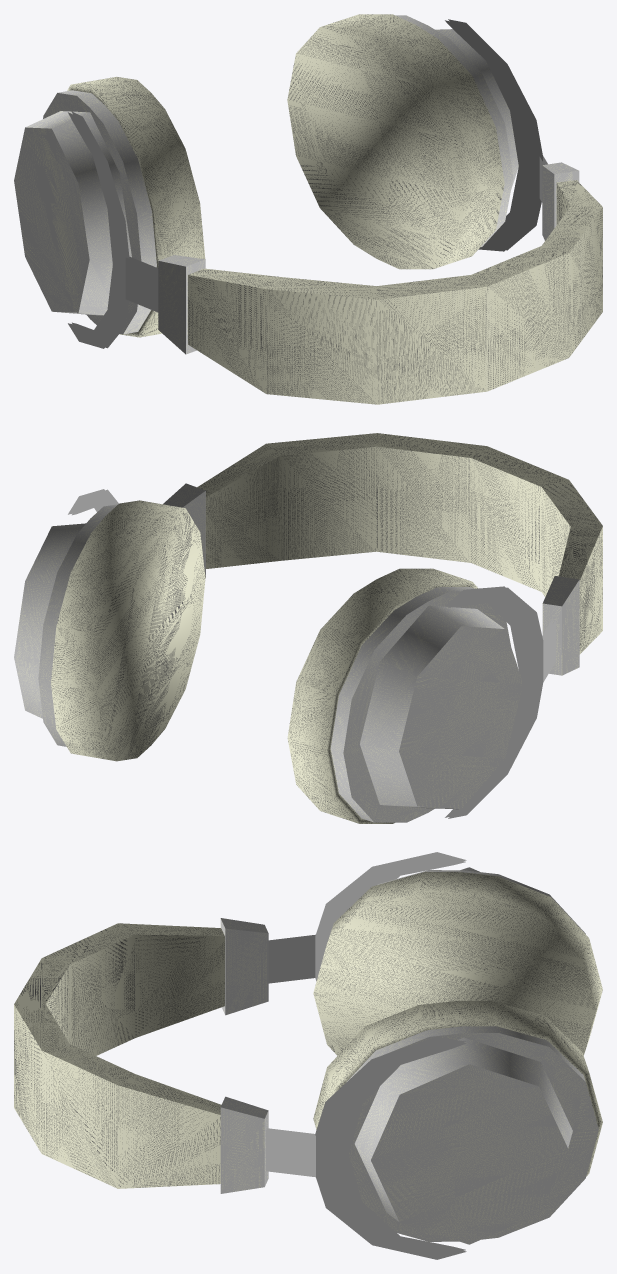
The model's file is model_align.obj.
3 renders of one model, top to bottom at view 1: azimuth 30°, elevation 25°; view 2: azimuth 150°, elevation 25°; view 3: azimuth 270°, elevation 25°, orthographic.
Visible parts, largest first — view 1: mesh9_mesh9-geometry, mesh5_mesh5-geometry, mesh1_mesh1-geometry, mesh8_mesh8-geometry, mesh3_mesh3-geometry, mesh2_mesh2-geometry, mesh6_mesh6-geometry, mesh4_mesh4-geometry, mesh7_mesh7-geometry; view 2: mesh9_mesh9-geometry, mesh1_mesh1-geometry, mesh5_mesh5-geometry, mesh3_mesh3-geometry, mesh2_mesh2-geometry, mesh6_mesh6-geometry, mesh8_mesh8-geometry, mesh4_mesh4-geometry; view 3: mesh5_mesh5-geometry, mesh9_mesh9-geometry, mesh1_mesh1-geometry, mesh7_mesh7-geometry, mesh4_mesh4-geometry, mesh6_mesh6-geometry, mesh2_mesh2-geometry, mesh8_mesh8-geometry.
Part boxes in pixels (x1,y1,x2,y2): mesh9_mesh9-geometry: [188, 180, 602, 404]; mesh5_mesh5-geometry: [287, 14, 518, 269]; mesh1_mesh1-geometry: [14, 76, 205, 337]; mesh8_mesh8-geometry: [445, 20, 544, 251]; mesh3_mesh3-geometry: [68, 112, 158, 348]; mesh2_mesh2-geometry: [158, 255, 205, 354]; mesh6_mesh6-geometry: [542, 162, 579, 240]; mesh4_mesh4-geometry: [71, 111, 158, 348]; mesh7_mesh7-geometry: [448, 19, 547, 250]; mesh9_mesh9-geometry: [197, 433, 602, 654]; mesh1_mesh1-geometry: [287, 568, 523, 823]; mesh5_mesh5-geometry: [14, 500, 205, 761]; mesh3_mesh3-geometry: [448, 587, 555, 818]; mesh2_mesh2-geometry: [542, 576, 579, 675]; mesh6_mesh6-geometry: [163, 483, 205, 578]; mesh8_mesh8-geometry: [72, 489, 118, 515]; mesh4_mesh4-geometry: [445, 586, 552, 817]; mesh5_mesh5-geometry: [313, 1000, 602, 1244]; mesh9_mesh9-geometry: [14, 923, 224, 1188]; mesh1_mesh1-geometry: [313, 867, 602, 1055]; mesh7_mesh7-geometry: [266, 1038, 466, 1259]; mesh4_mesh4-geometry: [268, 853, 465, 983]; mesh6_mesh6-geometry: [220, 1096, 268, 1193]; mesh2_mesh2-geometry: [220, 918, 268, 1015]; mesh8_mesh8-geometry: [266, 1037, 465, 1250].
Size of the model in its own units: 0.132 by 0.0653 by 0.1574.
